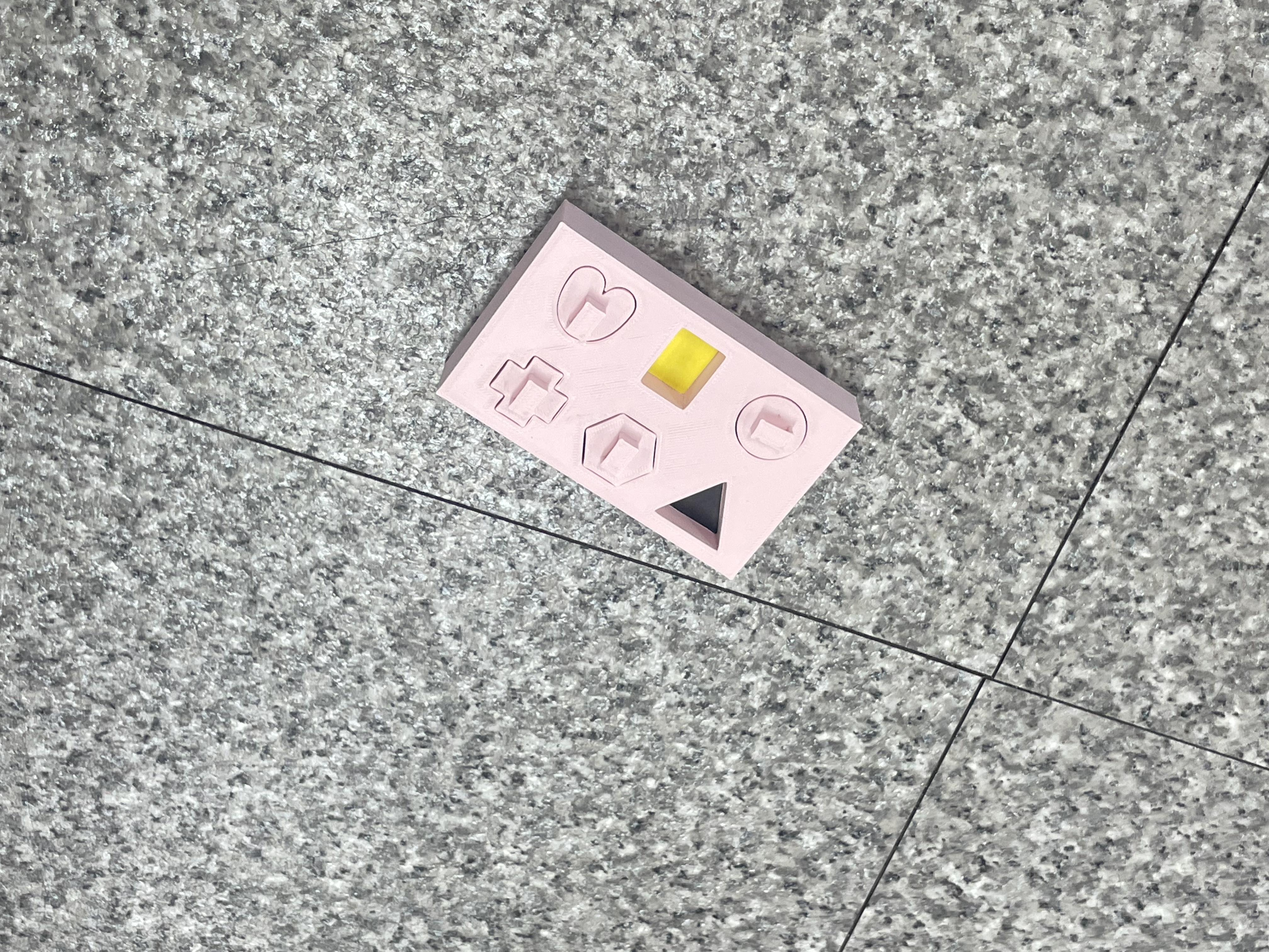unsolved: (433, 194, 877, 588)
